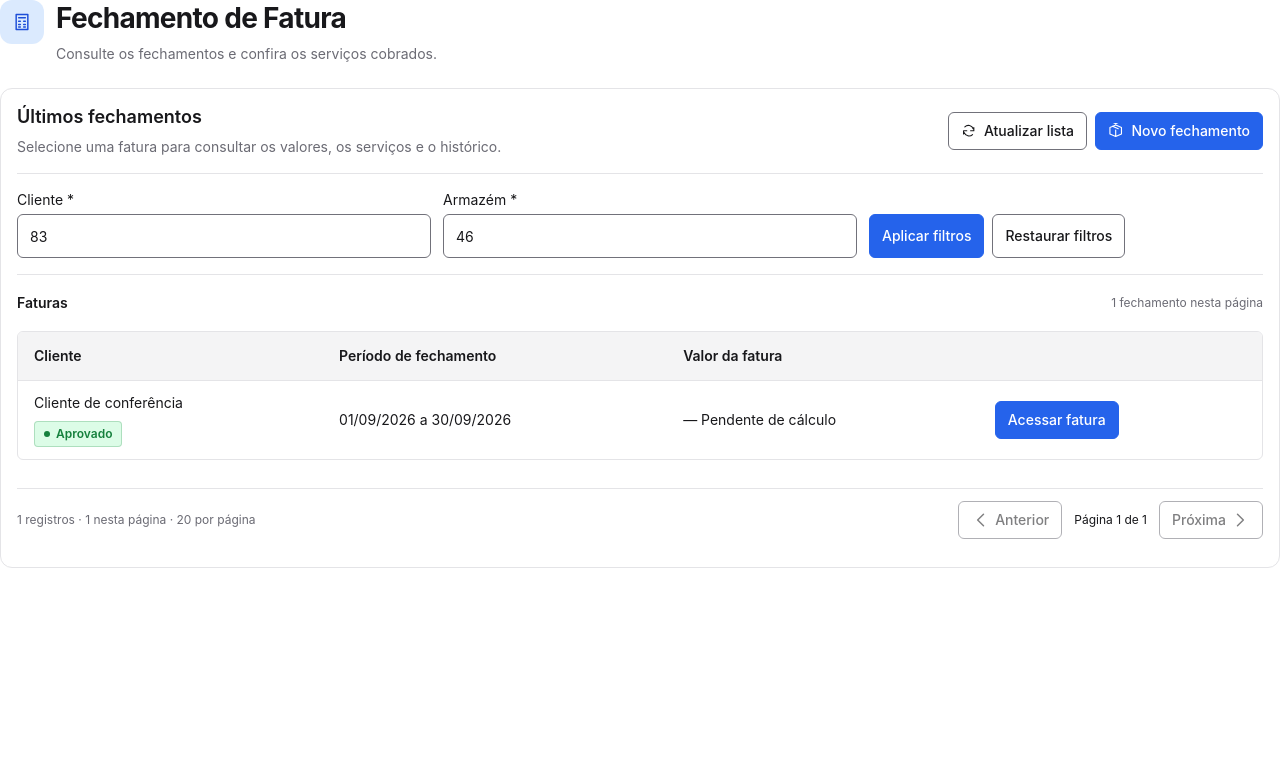
Test: cálculo de outro cliente não aparece na fatura e valores pendentes não viram zero
Check: the text "Pendente de cálculo" is shown, box x1=697 y1=410 x2=836 y2=428
What coordinates should you click on to do the following:
click the button "Acessar fatura"
I would click on:
 (1057, 420)
Its box is x1=995 y1=400 x2=1119 y2=438.
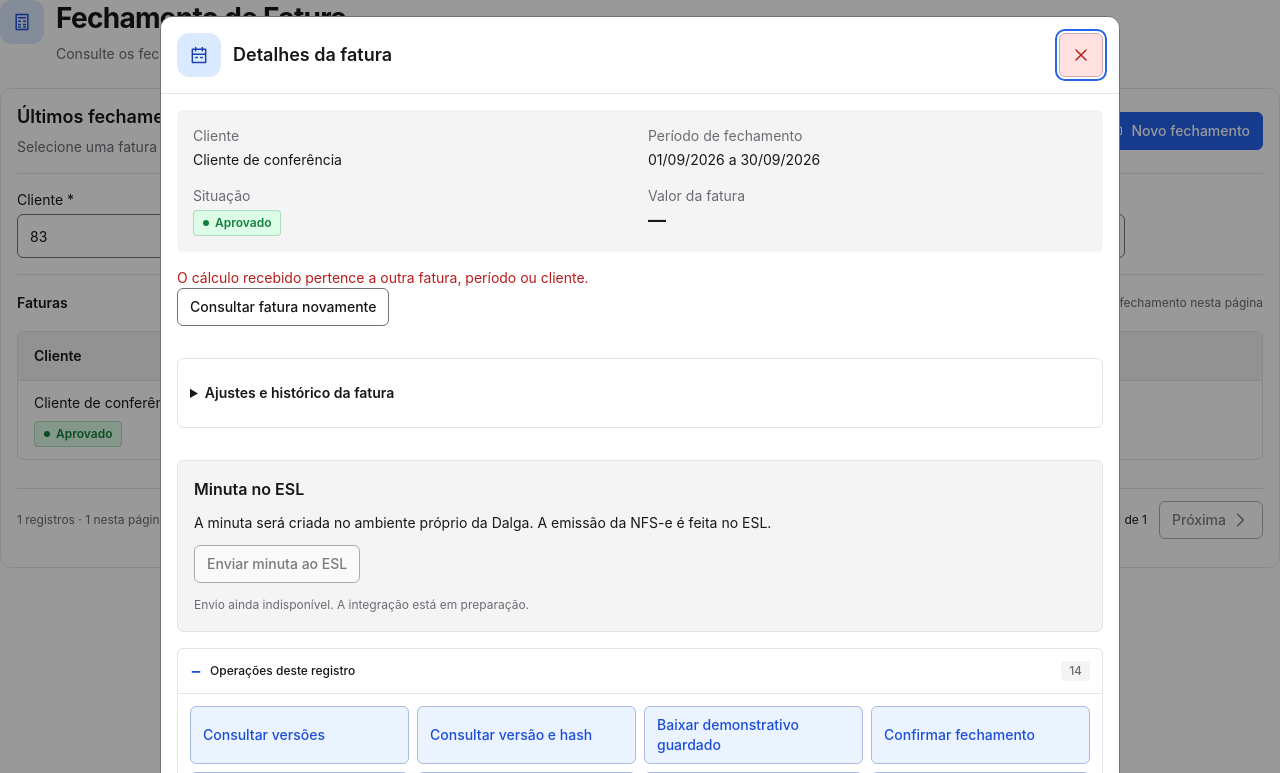
Check: the text "cálculo recebido pertence a outra" is shown, box x1=177 y1=269 x2=589 y2=286
